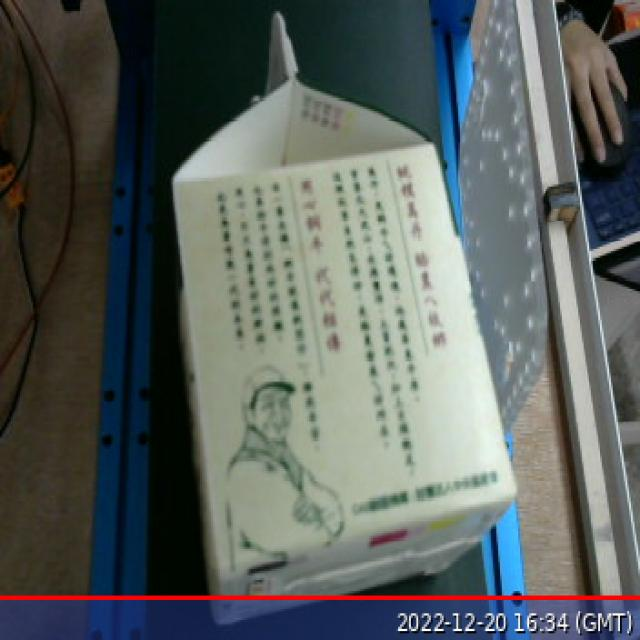non_white_jug: (144, 4, 525, 632)
